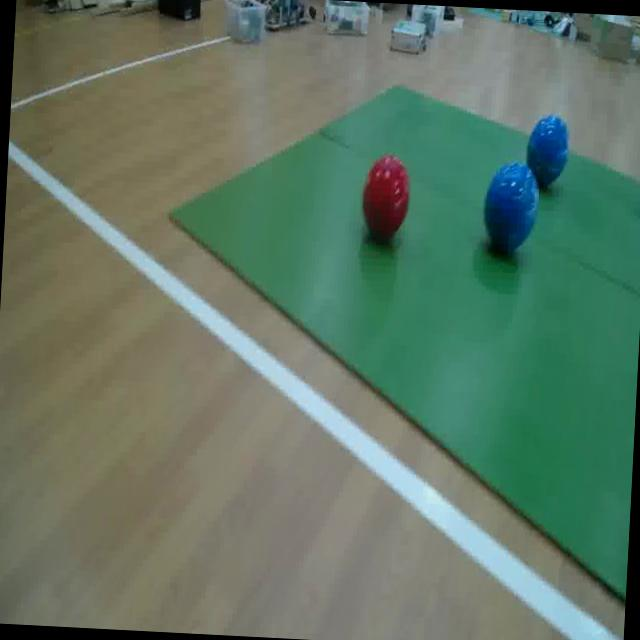blue_ball: (479, 154, 542, 262), (524, 110, 574, 190)
red_ball: (361, 153, 418, 250)
